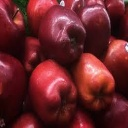apple: (0, 51, 27, 117)
